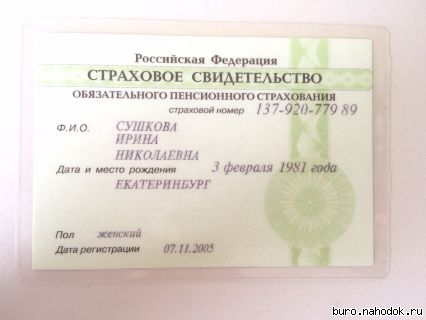text: (212, 160, 339, 176), (252, 101, 359, 118), (110, 177, 215, 193), (112, 146, 203, 161), (114, 117, 179, 133), (162, 241, 215, 257), (94, 226, 146, 242), (113, 131, 163, 146)
